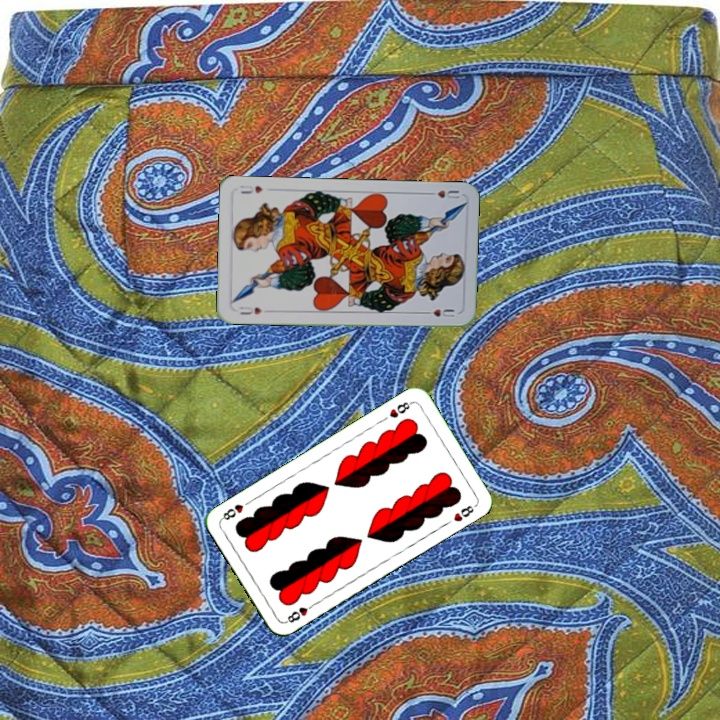H8: (281, 599, 318, 626), (385, 397, 415, 421)
HU: (423, 186, 462, 203), (236, 302, 265, 317)
